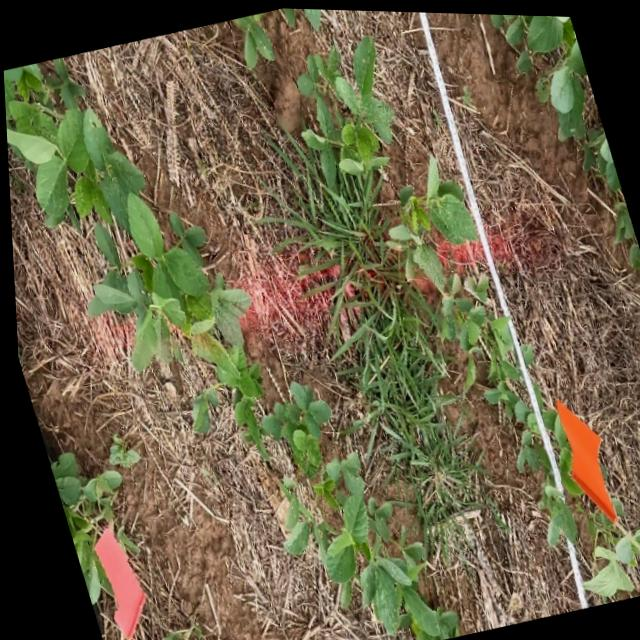grassy_weed: (266, 115, 473, 524)
soy_plant: (3, 60, 452, 640), (388, 156, 570, 539), (490, 11, 640, 283), (296, 33, 391, 172), (385, 153, 475, 289), (45, 451, 117, 603), (581, 524, 640, 593), (549, 411, 577, 492), (234, 11, 274, 64), (156, 622, 194, 640), (105, 447, 132, 465), (298, 7, 321, 26), (283, 7, 297, 24)
